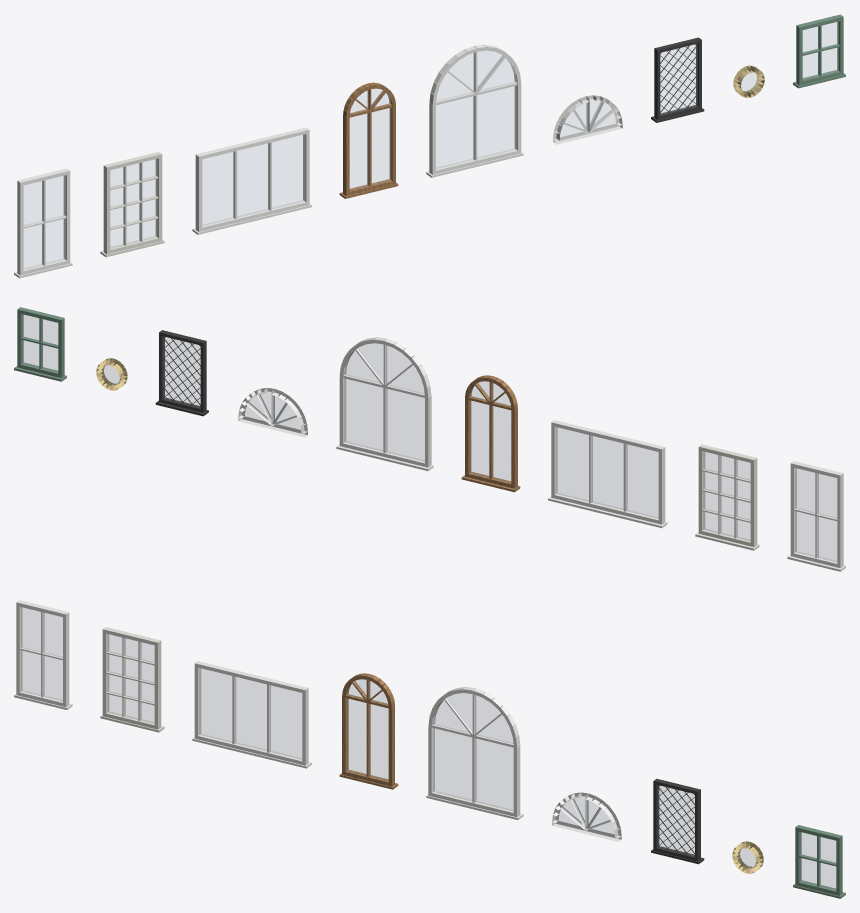
The model's file is mlo_windows_classic.glb.
3 renders of one model, top to bottom at view 1: azimuth 30°, elevation 25°; view 2: azimuth 150°, elevation 25°; view 3: azimuth 330°, elevation 25°, orthographic.
Visible parts, largest first — view 1: Arched_Wide, Casement_Triple, Georgian_Twelve_Pane, Gothic_Arch_Oak, Sash_Two_Over_Two, Leaded_Diamond, Cottage_Green, Half_Round_Fanlight, Porthole_Brass; view 2: Arched_Wide, Casement_Triple, Georgian_Twelve_Pane, Gothic_Arch_Oak, Sash_Two_Over_Two, Leaded_Diamond, Cottage_Green, Half_Round_Fanlight, Porthole_Brass; view 3: Arched_Wide, Casement_Triple, Georgian_Twelve_Pane, Gothic_Arch_Oak, Sash_Two_Over_Two, Leaded_Diamond, Cottage_Green, Half_Round_Fanlight, Porthole_Brass.
Boxes of the visible parts, x1,y1,x2,y2 form: Arched_Wide: [426, 44, 523, 177]; Casement_Triple: [192, 127, 311, 234]; Georgian_Twelve_Pane: [100, 152, 164, 257]; Gothic_Arch_Oak: [339, 82, 398, 198]; Sash_Two_Over_Two: [14, 168, 72, 278]; Leaded_Diamond: [651, 37, 704, 122]; Cottage_Green: [793, 14, 845, 88]; Half_Round_Fanlight: [553, 95, 622, 144]; Porthole_Brass: [733, 65, 764, 97]; Arched_Wide: [336, 337, 433, 471]; Casement_Triple: [548, 420, 667, 528]; Georgian_Twelve_Pane: [695, 444, 759, 550]; Gothic_Arch_Oak: [461, 375, 520, 492]; Sash_Two_Over_Two: [787, 461, 845, 571]; Leaded_Diamond: [155, 330, 208, 416]; Cottage_Green: [14, 307, 66, 381]; Half_Round_Fanlight: [238, 388, 307, 437]; Porthole_Brass: [96, 358, 127, 390]; Arched_Wide: [426, 687, 523, 819]; Casement_Triple: [192, 661, 311, 768]; Georgian_Twelve_Pane: [100, 627, 164, 732]; Gothic_Arch_Oak: [339, 673, 398, 789]; Sash_Two_Over_Two: [14, 600, 72, 709]; Leaded_Diamond: [651, 778, 704, 864]; Cottage_Green: [793, 825, 845, 898]; Half_Round_Fanlight: [552, 792, 621, 841]; Porthole_Brass: [732, 841, 763, 873].
Bounding box in the file's own units: 14.92 × 2.03 × 0.17.
7 materials, 1 textured.
